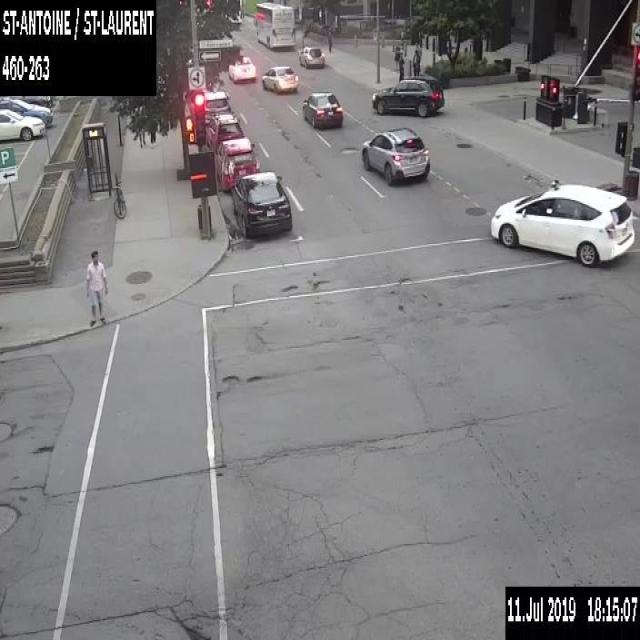bus: (256, 0, 296, 48)
pedestrian: (85, 248, 108, 325), (412, 48, 421, 75), (398, 51, 404, 80)
vehicle: (489, 179, 636, 268), (360, 128, 429, 187), (232, 170, 292, 237), (370, 73, 444, 116), (214, 136, 259, 192), (301, 90, 342, 128), (205, 112, 242, 153), (0, 98, 53, 126), (0, 108, 45, 139), (261, 64, 298, 93), (204, 90, 230, 123), (228, 54, 255, 82), (298, 45, 325, 68), (0, 94, 51, 105)
